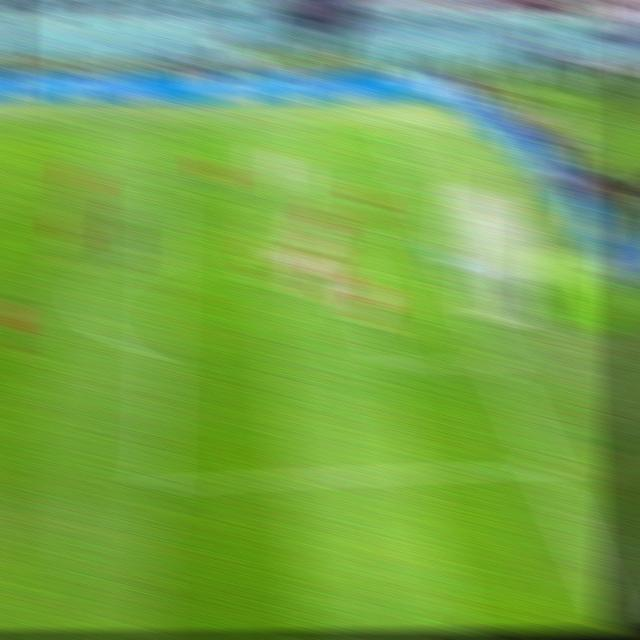bigarea_bottom_inner: (134, 468, 175, 498)
bigarea_bottom_outter: (525, 454, 564, 482)
bigarea_top_inner: (146, 174, 181, 197)
bigarea_top_outter: (398, 169, 432, 191)
bottom_arc_area_intersection: (141, 345, 176, 369)
corner: (369, 115, 407, 135)
smallarea_bottom_inner: (366, 345, 406, 378)
smallarea_bottom_outter: (476, 345, 517, 376)
smallarea_top_inner: (334, 226, 369, 249)
smallarea_top_outter: (423, 223, 458, 247)
top_arc_area_intersection: (144, 242, 178, 265)
